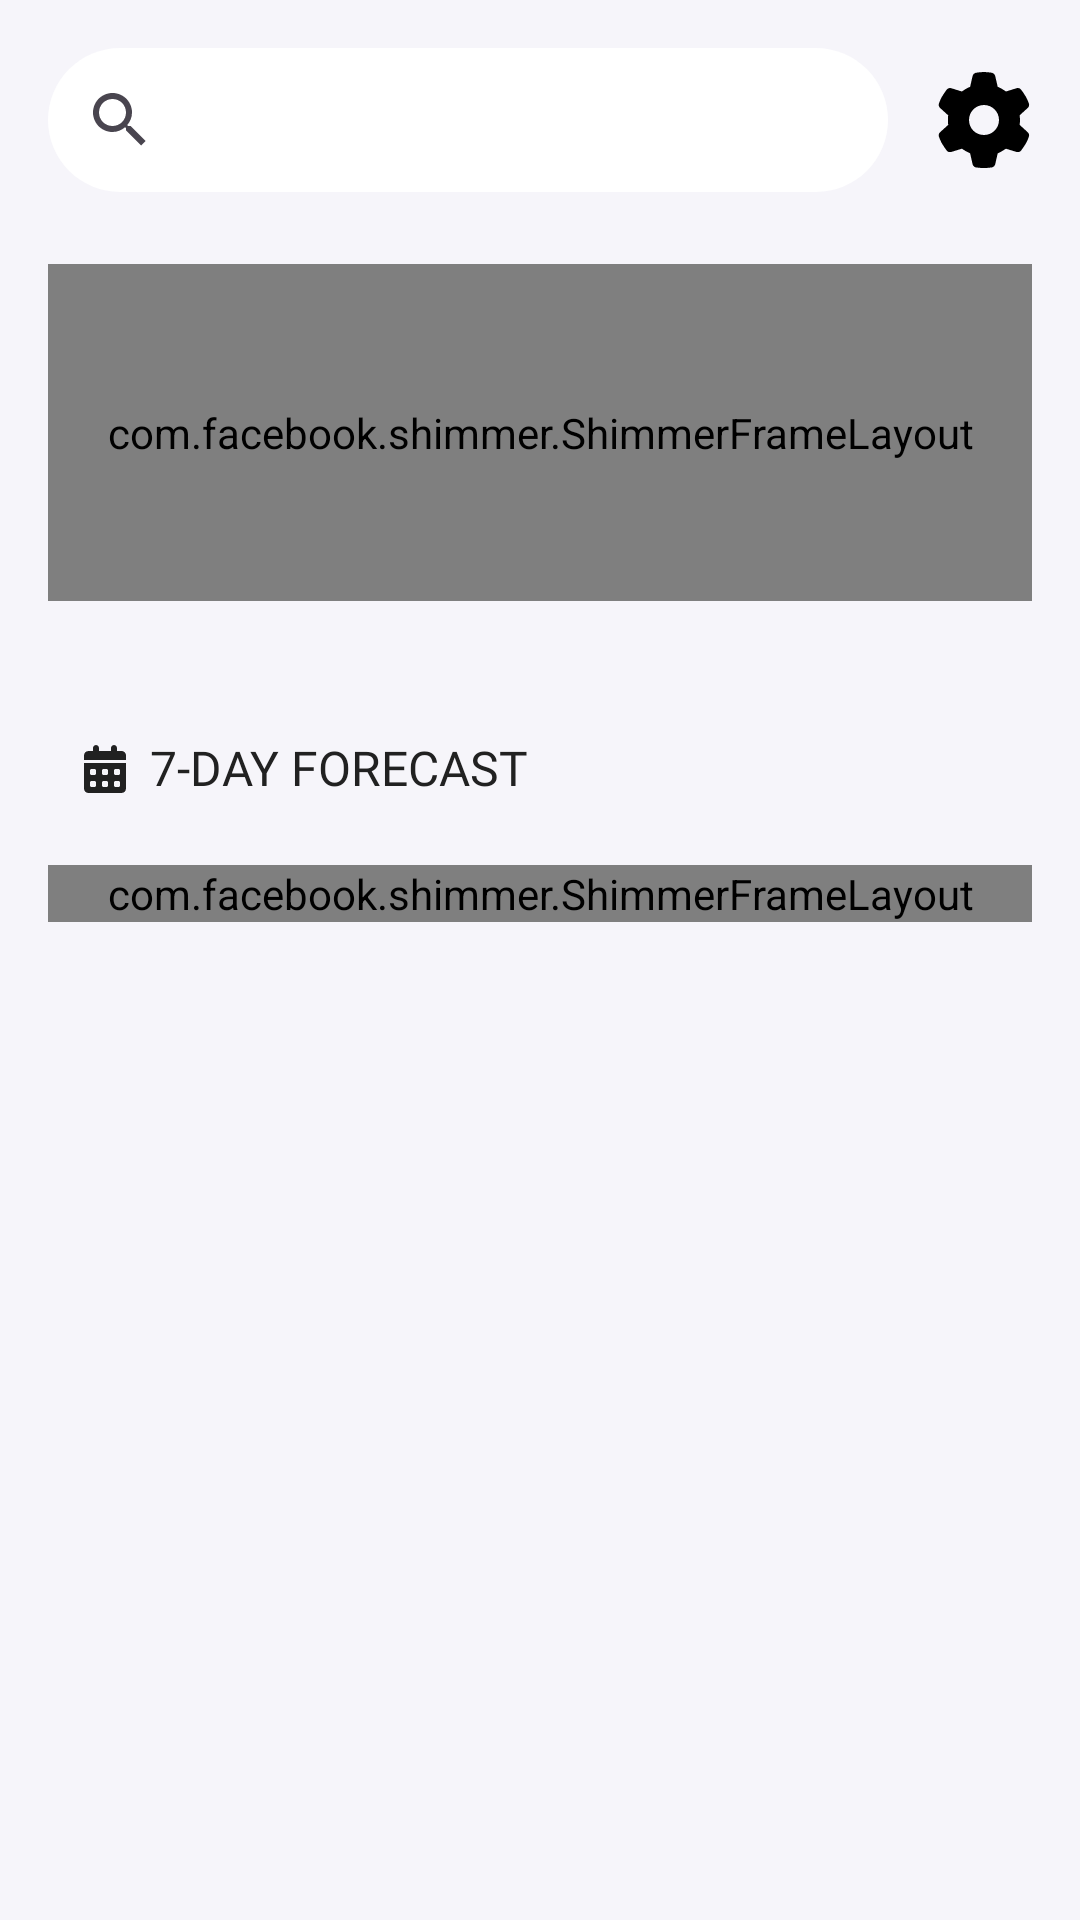

Where icons sit on this 1080 × 1920 app screen, as (x1, y1, x2, y2):
Settings: (938, 72, 1029, 168)
